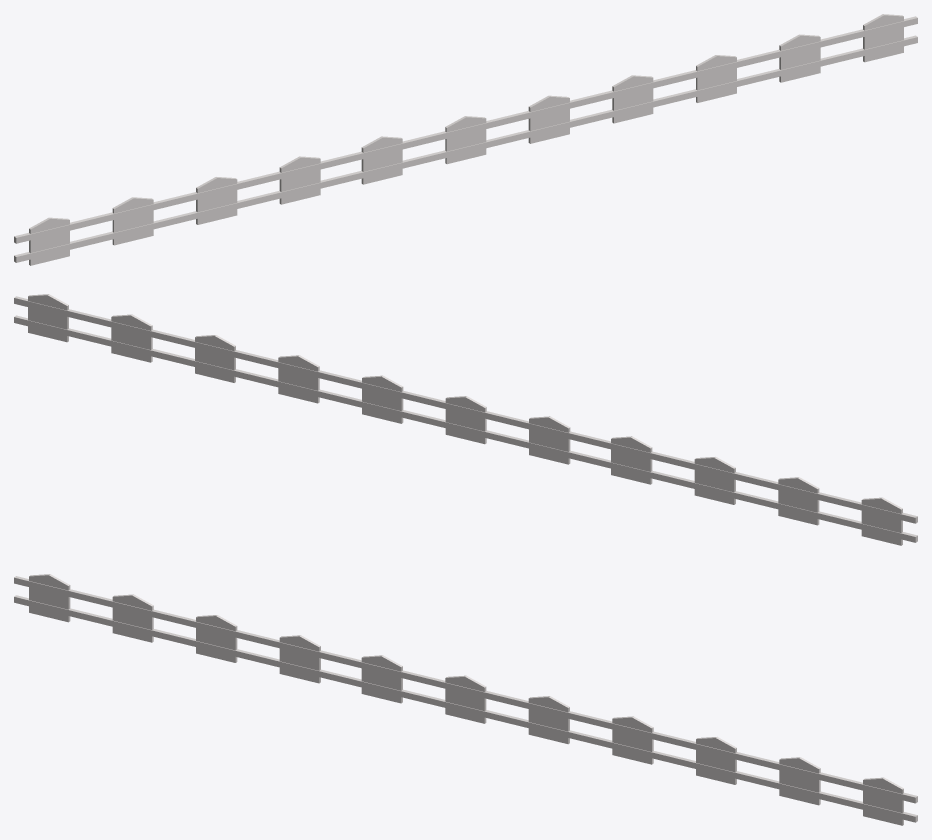
File: Backyard_Fence.glb
3 renders of one model, top to bottom at view 1: azimuth 30°, elevation 25°; view 2: azimuth 150°, elevation 25°; view 3: azimuth 330°, elevation 25°, orthographic.
Visible parts, largest first — view 1: Backyard_Fence.001; view 2: Backyard_Fence.001; view 3: Backyard_Fence.001.
Part boxes in pixels (left/top/right/bottom): Backyard_Fence.001: left=14, top=14, right=917, bottom=265; Backyard_Fence.001: left=14, top=294, right=917, bottom=545; Backyard_Fence.001: left=14, top=574, right=917, bottom=825.
Bounding box in the file's own units: 10 × 0.4487 × 0.0423.
Materials: 1 (1 with a texture image).
